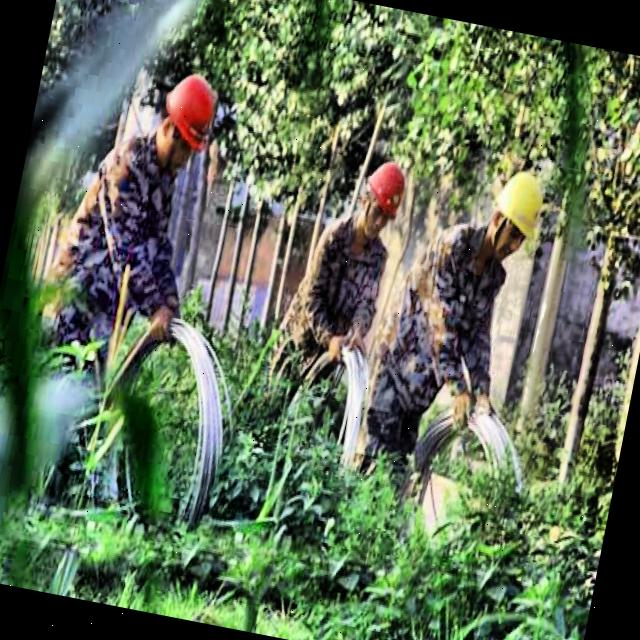helmet: (147, 63, 230, 178), (481, 160, 554, 274), (352, 154, 416, 241)
